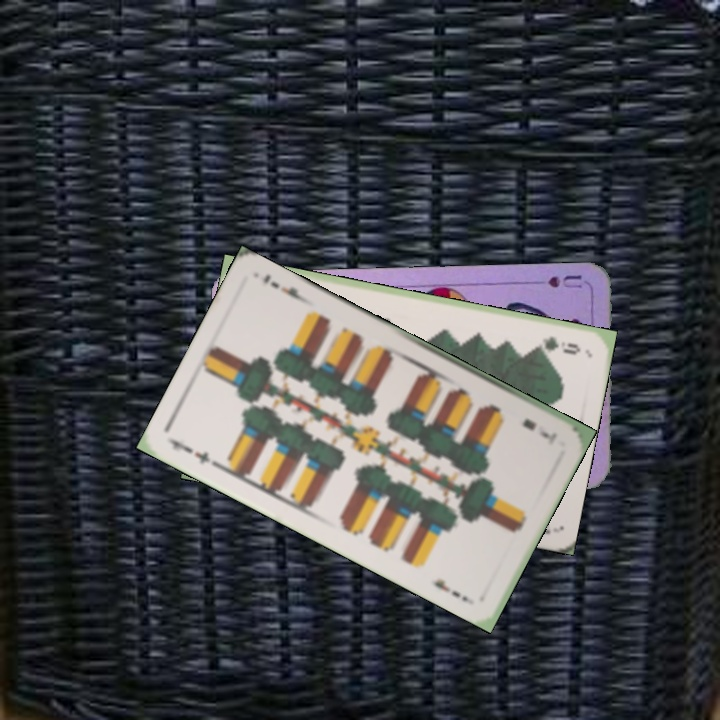E7: (167, 435, 222, 470), (518, 414, 560, 446)
G9: (531, 332, 583, 358)
SU: (526, 271, 585, 291)
